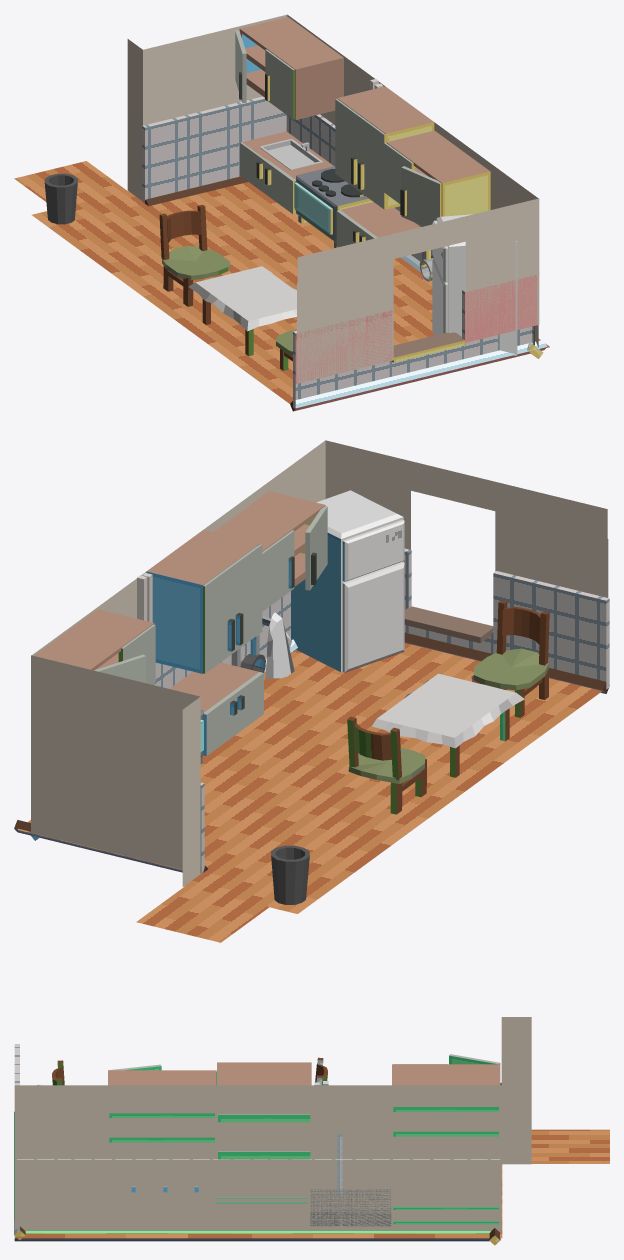
File: new_kitchen.gltf
3 views of the same model, one above another, from view 1: azimuth 30°, elevation 25°; view 2: azimuth 150°, elevation 25°; view 3: azimuth 270°, elevation 25° (orthographic). The views are drawn at different scales.
Visible parts, largest first — view 1: wall (×8), cuboid-col (×4), kitchen upper counter, plane, mesh (×2), fridge, stove, cylinder-col, mesh-col; view 2: wall (×7), cuboid-col (×4), kitchen upper counter, fridge, plane (×2), mesh-col, cuboid, mesh (×2), cylinder-col; view 3: wall (×3), kitchen upper counter, cuboid-col (×2), mesh, stove.
Part boxes in pixels (bbox=[...]): wall (×8): bbox=[127, 14, 539, 409]; cuboid-col (×4): bbox=[14, 161, 549, 408]; kitchen upper counter: bbox=[235, 17, 490, 247]; plane: bbox=[188, 266, 296, 331]; mesh (×2): bbox=[145, 176, 546, 411]; fridge: bbox=[432, 214, 517, 355]; stove: bbox=[294, 166, 373, 247]; cylinder-col: bbox=[44, 173, 77, 224]; mesh-col: bbox=[432, 258, 448, 335]; wall (×7): bbox=[31, 440, 609, 886]; cuboid-col (×4): bbox=[17, 606, 601, 942]; kitchen upper counter: bbox=[34, 491, 327, 755]; fridge: bbox=[291, 490, 404, 672]; plane (×2): bbox=[265, 612, 524, 748]; mesh-col: bbox=[342, 562, 404, 672]; cuboid: bbox=[471, 600, 549, 690]; mesh (×2): bbox=[14, 632, 609, 873]; cylinder-col: bbox=[271, 845, 309, 904]; wall (×3): bbox=[14, 1017, 531, 1232]; kitchen upper counter: bbox=[108, 1054, 500, 1224]; cuboid-col (×2): bbox=[15, 1129, 609, 1238]; mesh: bbox=[14, 1231, 490, 1241]; stove: bbox=[310, 1189, 391, 1226].
Size of what is drawn, in the model's own units: 0.8125 by 0.4005 by 1.38.
Materials: 1 (1 with a texture image).
